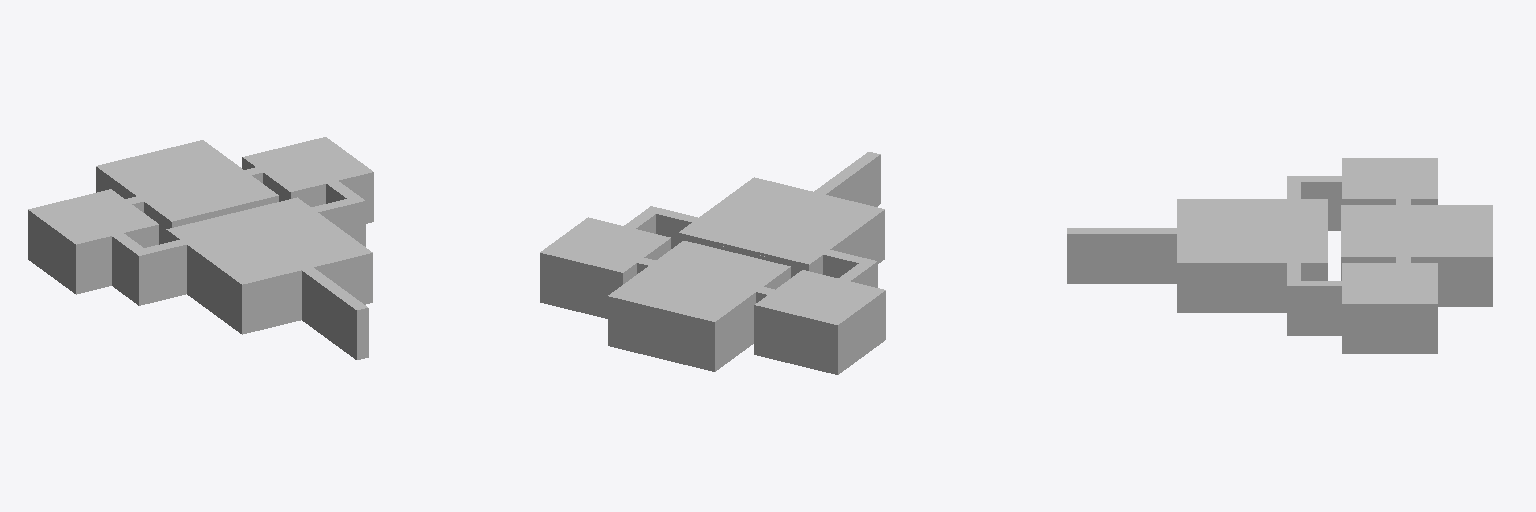
The model's file is museum.obj.
The picture shows the model from 3 angles: view 1: azimuth 30°, elevation 25°; view 2: azimuth 150°, elevation 25°; view 3: azimuth 270°, elevation 25°; orthographic projection.
Parts seen in each view (by area): view 1: Museum_Museum_Mesh; view 2: Museum_Museum_Mesh; view 3: Museum_Museum_Mesh.
Boxes of the visible parts, <box> form: Museum_Museum_Mesh: <box>28,137,373,359</box>; Museum_Museum_Mesh: <box>540,152,885,374</box>; Museum_Museum_Mesh: <box>1067,158,1492,353</box>.
Bounding box in the file's own units: 25 × 4 × 31.